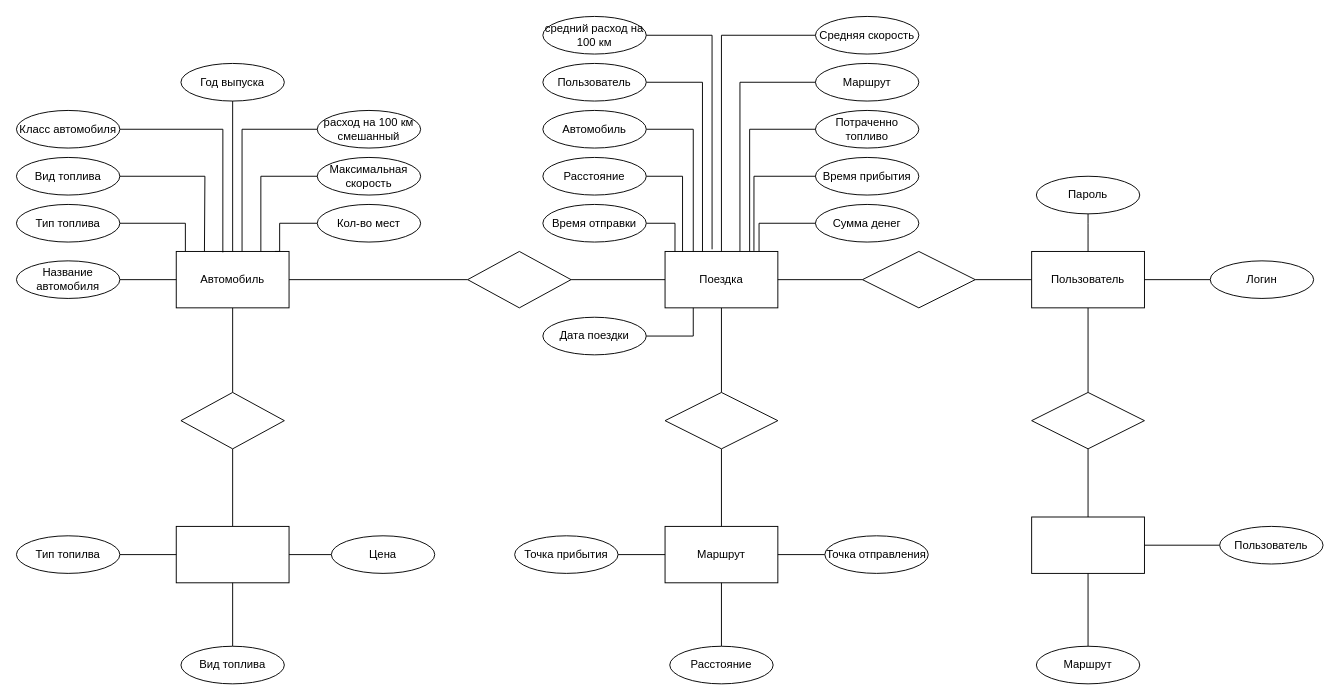
The diagram is 1340 pixels wide and 700 high, and some of its shapes have lost their labels. Each missing label, with the centre of its shape:
"Использует" goes at [232,420].
"Используется для" goes at [519,279].
"Любимые маршруты" goes at [1087,544].
"Проходит по" goes at [721,420].
"совершает" goes at [918,279].
"Сохраняет" goes at [1087,420].
"топливо" goes at [232,554].
